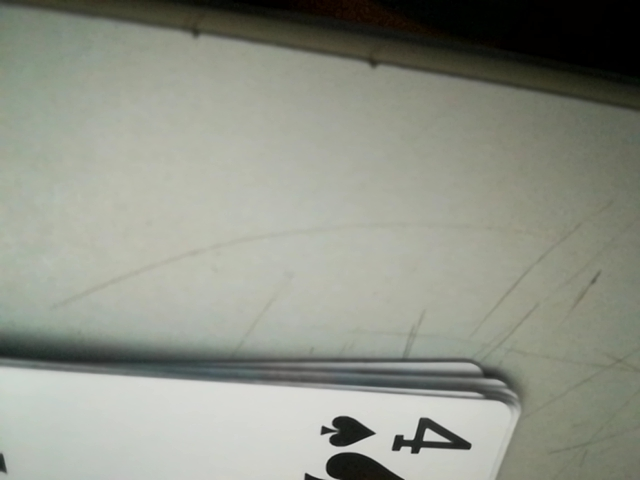ht 4: (316, 406, 483, 462)
